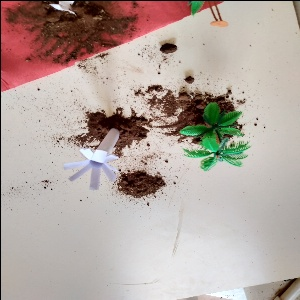plant: (177, 100, 253, 173)
weed: (62, 128, 134, 197)
